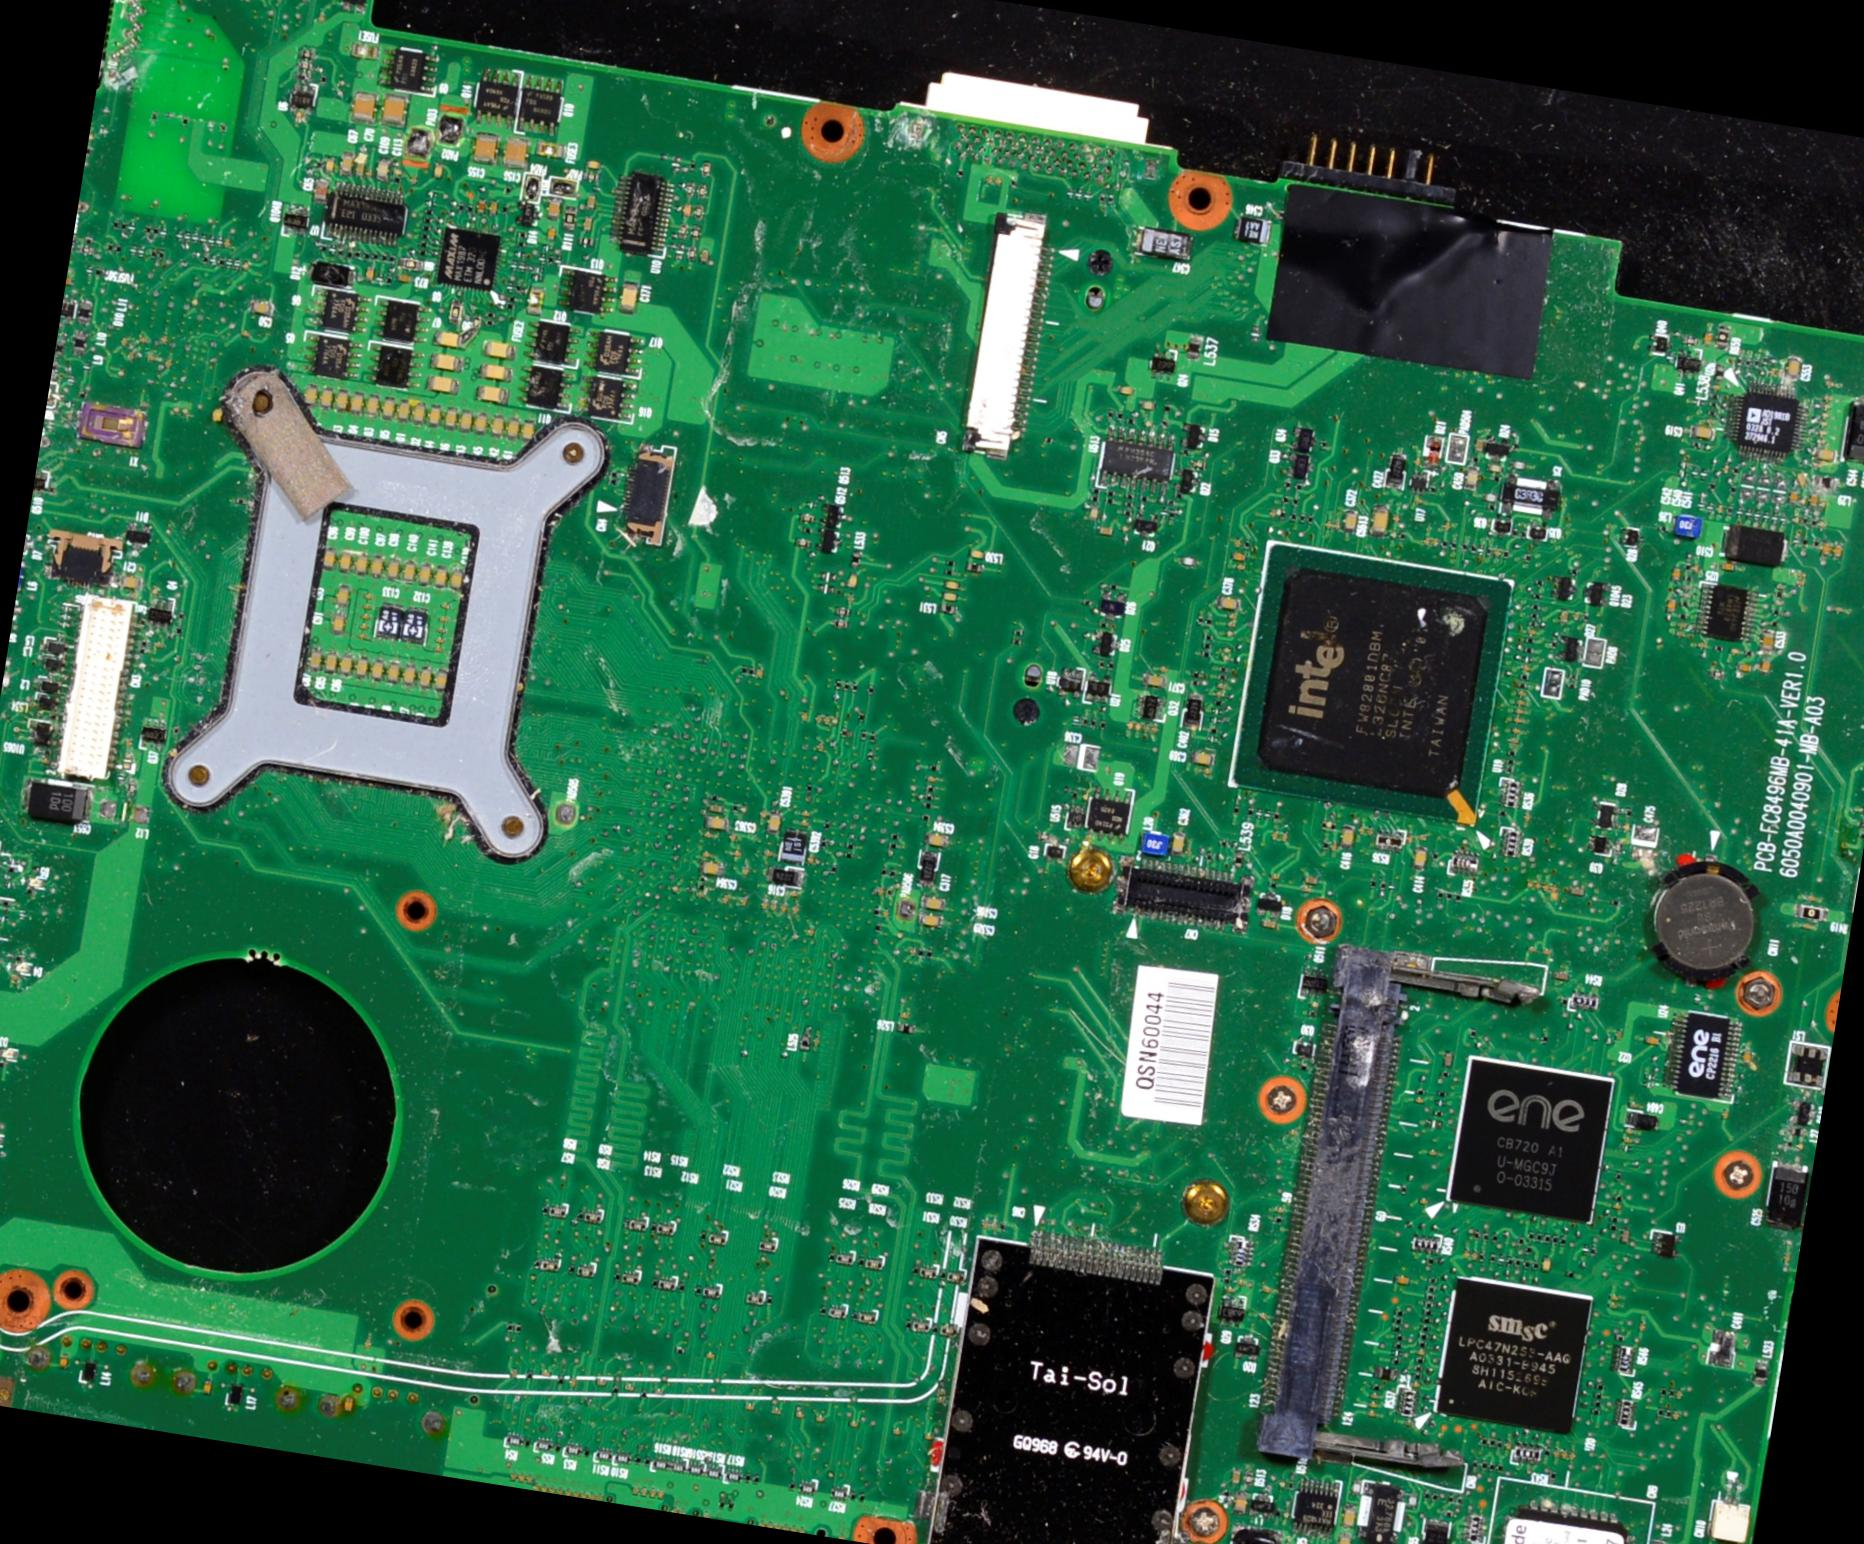Capacitor Jumper: (380, 93, 409, 131), (470, 130, 500, 164), (501, 136, 528, 170), (480, 338, 516, 360), (352, 92, 378, 122), (410, 660, 434, 692), (480, 362, 514, 384), (618, 281, 639, 314), (474, 384, 510, 403), (394, 557, 418, 585), (1368, 506, 1390, 536), (431, 352, 463, 372), (428, 374, 460, 394), (434, 331, 464, 349), (429, 669, 450, 694), (516, 420, 538, 443), (922, 894, 947, 914), (350, 654, 370, 679), (1141, 672, 1168, 690), (116, 574, 143, 592), (484, 414, 506, 436), (1783, 354, 1801, 380), (246, 298, 272, 316), (398, 660, 416, 686), (382, 556, 401, 580), (442, 406, 461, 429), (444, 566, 462, 590), (431, 564, 448, 589), (766, 808, 781, 836), (700, 860, 726, 876), (384, 660, 400, 686), (456, 409, 474, 432), (926, 832, 950, 849), (1341, 508, 1358, 532), (500, 418, 520, 438), (322, 546, 338, 570), (1691, 425, 1716, 440), (324, 648, 339, 673), (395, 400, 412, 422), (356, 551, 372, 574), (427, 406, 442, 430), (367, 660, 385, 680), (705, 816, 727, 832), (921, 912, 943, 928), (1190, 749, 1212, 765), (380, 399, 395, 422), (340, 152, 354, 176), (1464, 467, 1478, 491), (308, 648, 322, 671), (1760, 631, 1776, 651), (338, 552, 354, 572), (348, 393, 363, 414), (368, 557, 383, 578), (1171, 832, 1185, 854), (364, 396, 378, 418), (303, 383, 318, 403), (1413, 848, 1425, 872), (473, 413, 489, 431), (419, 560, 431, 584), (1218, 597, 1240, 610), (1816, 448, 1836, 462), (412, 404, 426, 423), (355, 154, 367, 176), (314, 180, 326, 202), (336, 392, 349, 412), (339, 655, 352, 675), (1341, 830, 1354, 849), (324, 156, 335, 175), (378, 158, 388, 177), (1672, 566, 1682, 582), (1666, 598, 1677, 612), (322, 391, 332, 406), (1761, 658, 1771, 672), (1476, 438, 1484, 453), (1722, 563, 1736, 571), (1738, 664, 1752, 670), (1731, 648, 1742, 655), (1698, 642, 1709, 648), (1796, 580, 1806, 586), (1797, 572, 1806, 578), (1677, 630, 1685, 636), (1677, 622, 1686, 627)
Connector: (1253, 944, 1408, 1466)
IC: (418, 197, 522, 304), (1660, 1004, 1743, 1100), (1722, 382, 1805, 466), (609, 167, 677, 259), (323, 182, 407, 249), (1692, 582, 1760, 645), (1286, 1473, 1342, 1535), (289, 83, 322, 116), (24, 718, 55, 750), (1059, 669, 1084, 698), (1088, 678, 1112, 701)
Resistor Jumper: (757, 1232, 779, 1258), (1374, 830, 1402, 850), (698, 1282, 726, 1302), (707, 1226, 730, 1249), (652, 1274, 679, 1293), (746, 1290, 773, 1308), (536, 1256, 560, 1276), (831, 1248, 857, 1266), (654, 1220, 678, 1239), (626, 1214, 650, 1232), (616, 1268, 640, 1286), (907, 1320, 933, 1336), (546, 1200, 568, 1218), (580, 1208, 602, 1226), (720, 1469, 746, 1484), (854, 1310, 878, 1326), (943, 1268, 966, 1284), (864, 1258, 886, 1274), (646, 1456, 668, 1472), (827, 1304, 848, 1320), (824, 1486, 848, 1500), (572, 1262, 594, 1277), (562, 1444, 583, 1458), (939, 1321, 956, 1338), (534, 1439, 553, 1454), (504, 1432, 523, 1446), (798, 1480, 816, 1494), (920, 1266, 937, 1280), (704, 1468, 721, 1482), (611, 1453, 628, 1466), (684, 1465, 702, 1477), (593, 1450, 609, 1462), (668, 1463, 684, 1474)
Transistor: (1475, 1478, 1654, 1543), (360, 340, 428, 394), (296, 332, 365, 384), (304, 285, 372, 336), (554, 263, 618, 317), (367, 294, 433, 346), (379, 44, 440, 96), (515, 74, 565, 133), (584, 330, 644, 378), (515, 366, 575, 414), (577, 375, 636, 421), (526, 320, 581, 368), (477, 68, 522, 124), (1085, 784, 1133, 836), (280, 201, 310, 238), (147, 596, 175, 634), (1216, 1296, 1248, 1326), (1134, 694, 1166, 723), (140, 719, 166, 754), (1650, 1232, 1680, 1260), (1297, 971, 1328, 997), (1148, 352, 1176, 378), (1558, 634, 1584, 662), (1550, 576, 1576, 602), (1290, 1031, 1314, 1057), (1182, 423, 1206, 449), (818, 503, 844, 527), (1584, 580, 1608, 605), (1290, 453, 1310, 481), (818, 530, 841, 554), (1674, 356, 1702, 374), (1134, 520, 1158, 540), (1179, 470, 1198, 495), (1620, 526, 1642, 546), (33, 471, 53, 493), (1297, 428, 1314, 453), (1652, 334, 1668, 358), (1485, 442, 1510, 457), (1526, 524, 1548, 540), (1493, 519, 1512, 533)
